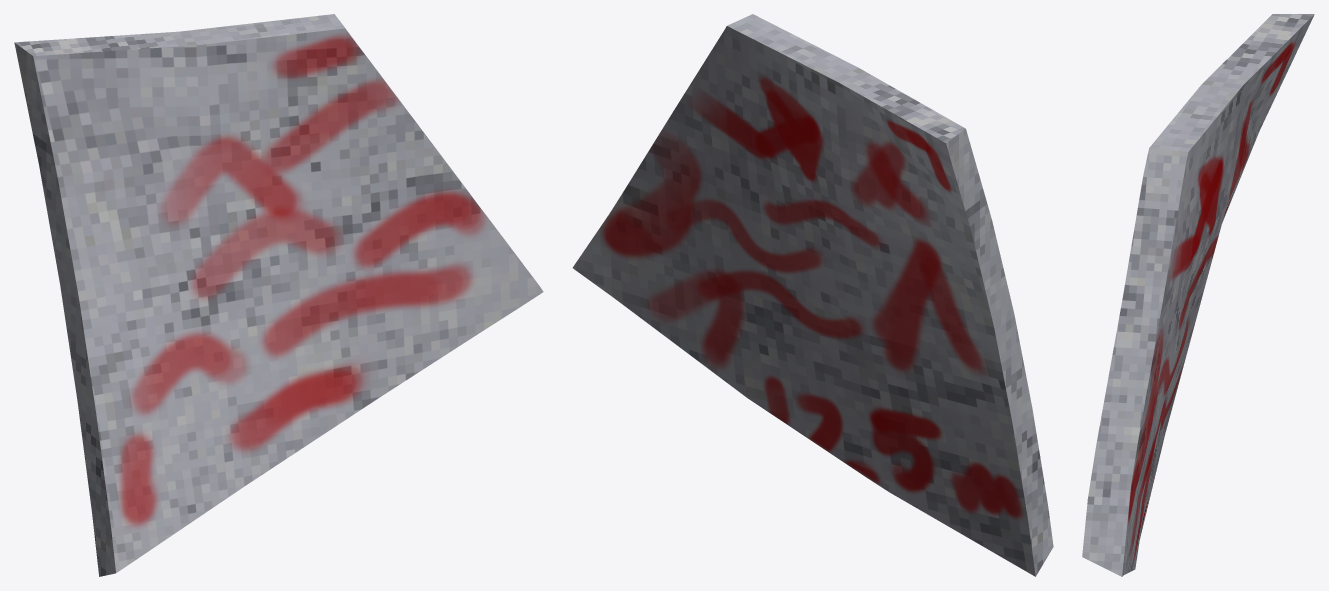
The model's file is map2.fbx.
3 views of the same model, side by side, from view 1: azimuth 30°, elevation 25°; view 2: azimuth 150°, elevation 25°; view 3: azimuth 270°, elevation 25° (orthographic). The views are drawn at different scales.
Parts seen in each view (by area): view 1: Cube.002; view 2: Cube.002; view 3: Cube.002.
Part boxes in pixels (x1,y1,x2,y2): Cube.002: (14, 14, 543, 576); Cube.002: (572, 14, 1053, 576); Cube.002: (1082, 14, 1314, 576).
Size of the model in its own units: 290 by 301 by 119.
